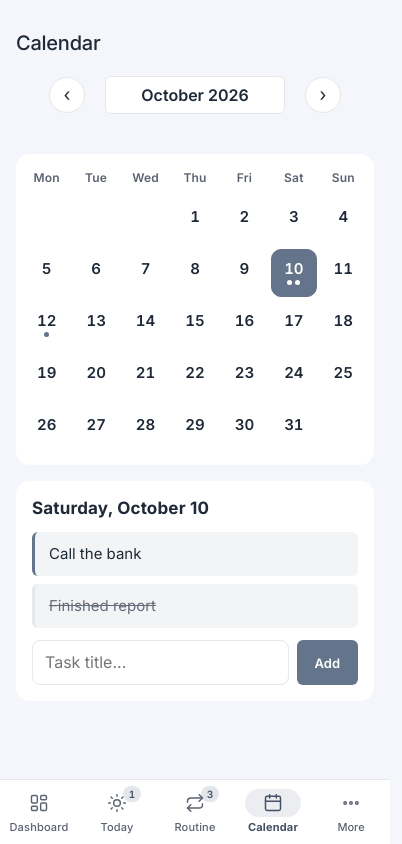
App calendar agenda › shows an empty message for a day without tasks
This screenshot has width=402, height=844.
Click the button named "Sunday, October 11" at (343, 273), box 321,249 -> 366,297
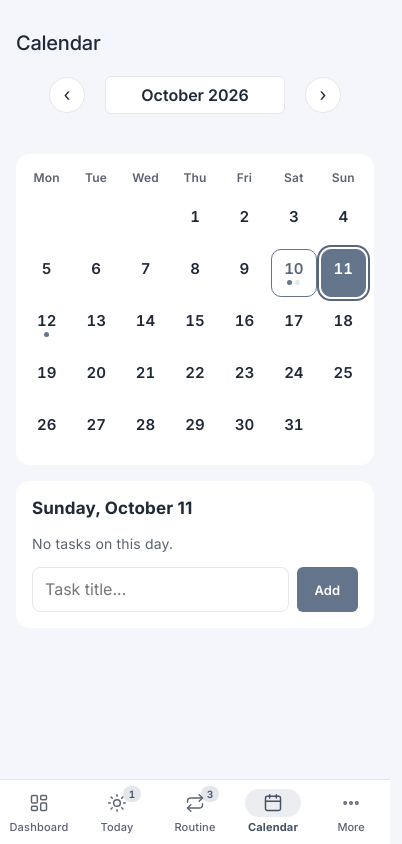
Now the text "No tasks on this day." is shown, box 32,535 -> 173,552
